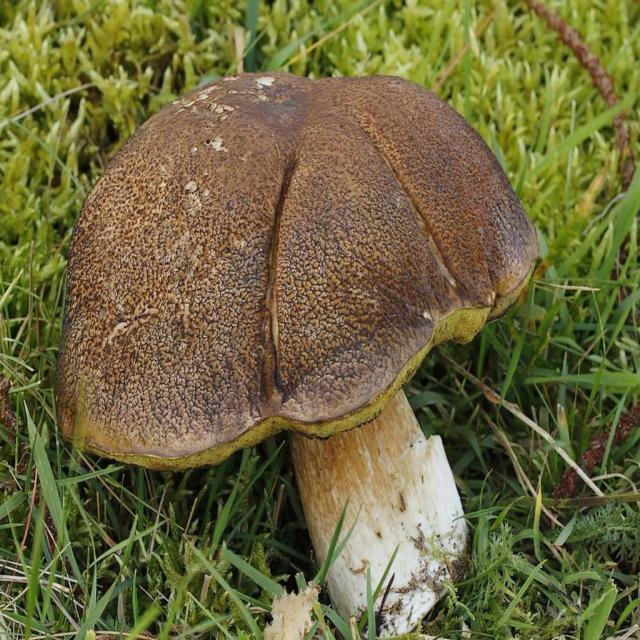Boletus: (64, 71, 536, 633)
